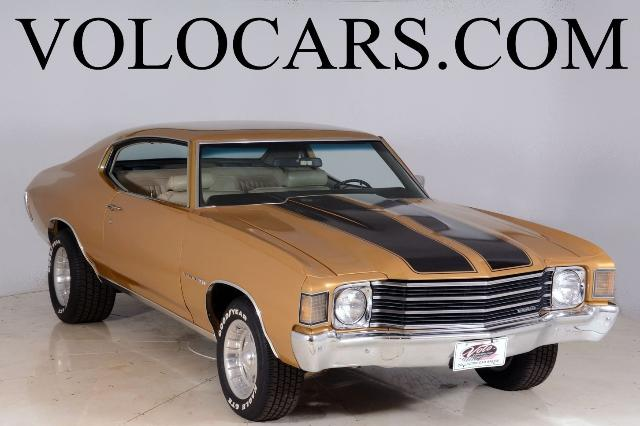chevelle-1972: (24, 122, 619, 421)
